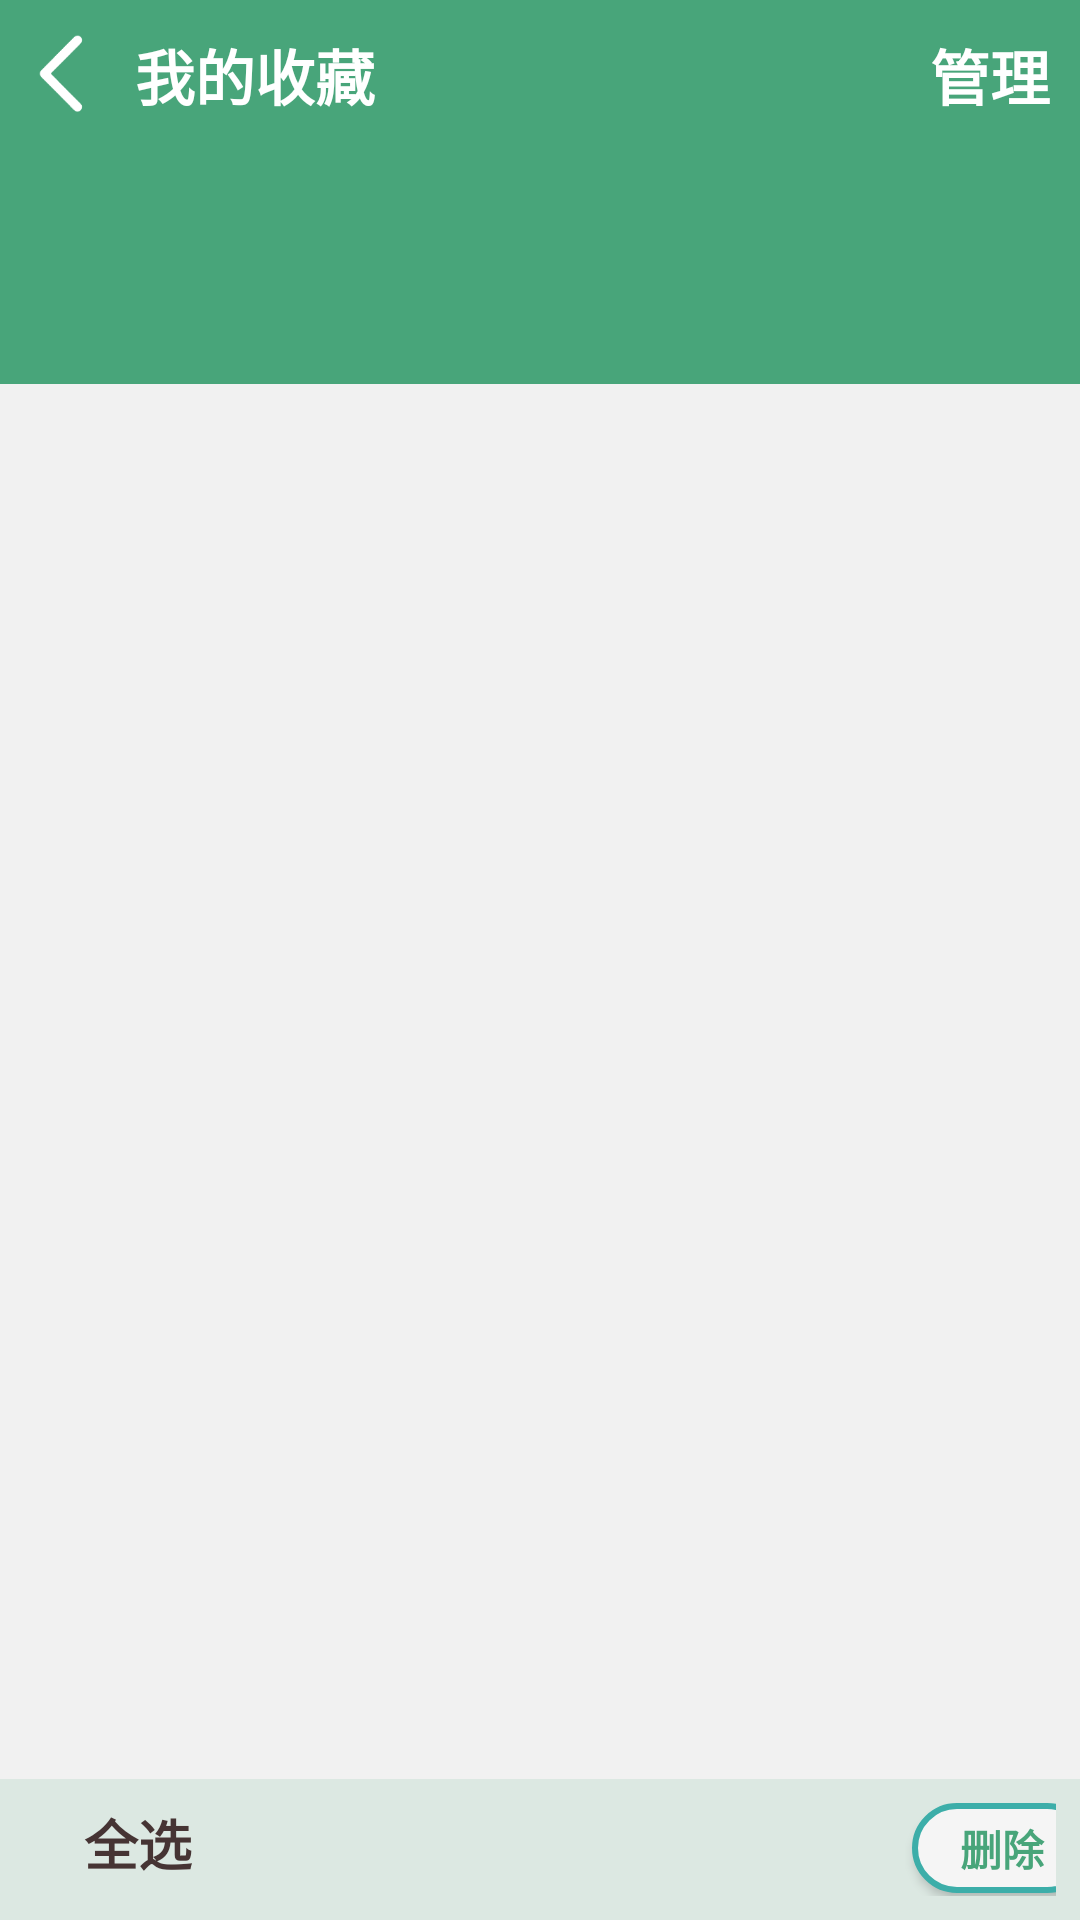

Icons on this 1080×1920 Android screen, each with its box as (x1, y1, x2, y2):
simple back: (39, 35, 82, 112)
